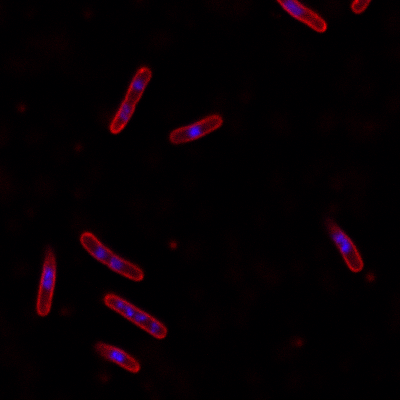Nalidixate: (80, 232, 144, 282), (104, 294, 168, 340), (110, 66, 152, 134), (168, 114, 222, 145), (276, 1, 327, 33)
Oblique: (326, 222, 364, 274), (36, 247, 57, 317), (93, 342, 140, 373)
Vesicle: (365, 272, 376, 283), (168, 239, 178, 250)
